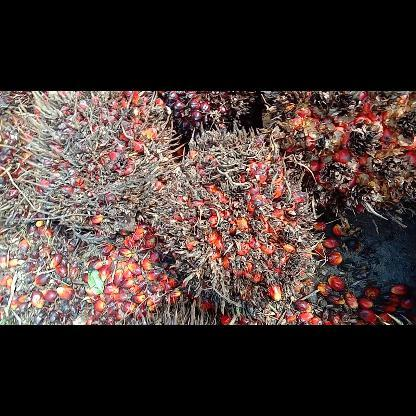Terlalu masak: (147, 122, 325, 324), (0, 90, 188, 246), (255, 91, 415, 230)
